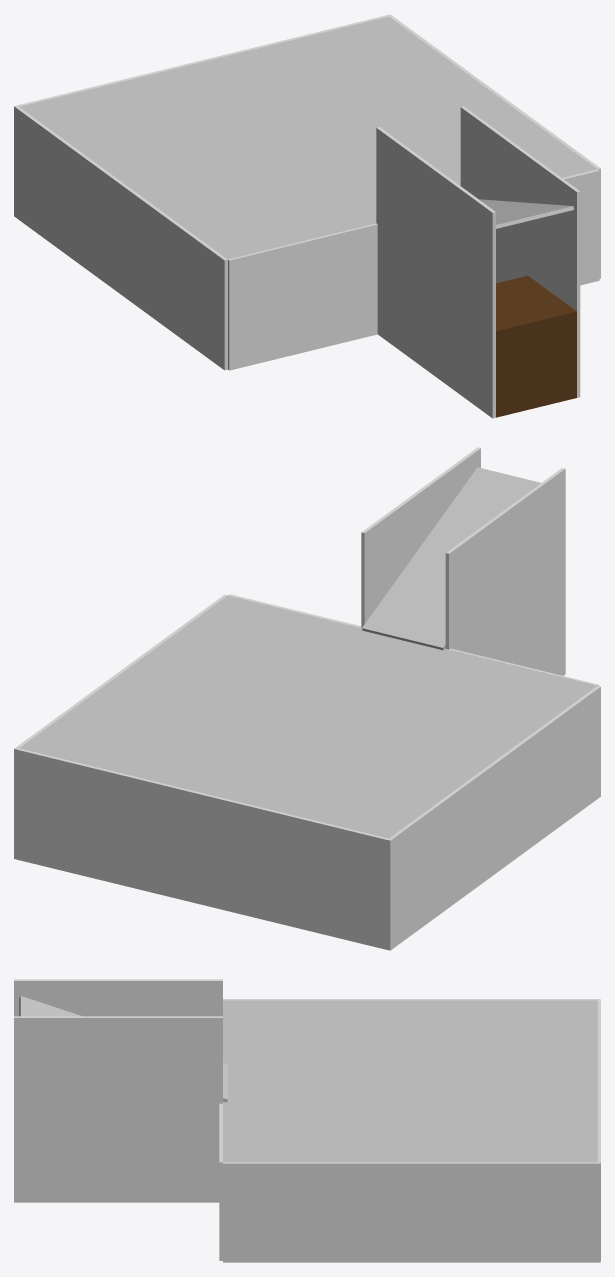
The model's file is Winary2.fbx.
3 views of the same model, one above another, from view 1: azimuth 30°, elevation 25°; view 2: azimuth 150°, elevation 25°; view 3: azimuth 270°, elevation 25° (orthographic). The views are drawn at different scales.
Parts seen in each view (by area): view 1: Roof.001, Wall.001, Wall.003, Wall, Walls, Stairs, Roof, Wall.004, Wall.005; view 2: Roof.001, Wall.005, Wall.003, Wall.001, Roof, Walls, Wall.004, Wall; view 3: Roof.001, Walls, Wall.004, Wall.001, Roof, Wall.003, Wall.005, Wall.
Boxes of the visible parts, left/top/right/bottom form: Roof.001: left=19, top=16, right=596, bottom=259; Wall.001: left=376, top=127, right=495, bottom=418; Wall.003: left=14, top=105, right=227, bottom=370; Wall: left=228, top=169, right=599, bottom=370; Walls: left=460, top=106, right=580, bottom=397; Stairs: left=496, top=275, right=576, bottom=417; Roof: left=479, top=199, right=573, bottom=228; Wall.004: left=387, top=14, right=600, bottom=278; Wall.005: left=17, top=15, right=388, bottom=106; Roof.001: left=19, top=595, right=597, bottom=838; Wall.005: left=17, top=748, right=388, bottom=949; Wall.003: left=387, top=686, right=600, bottom=950; Wall.001: left=445, top=468, right=565, bottom=675; Roof: left=362, top=467, right=540, bottom=650; Walls: left=361, top=447, right=480, bottom=628; Wall.004: left=14, top=594, right=227, bottom=859; Wall: left=228, top=594, right=598, bottom=685; Roof.001: left=223, top=1000, right=597, bottom=1162; Walls: left=14, top=1016, right=222, bottom=1202; Wall.004: left=223, top=1162, right=600, bottom=1262; Wall.001: left=14, top=979, right=222, bottom=1016; Roof: left=19, top=996, right=227, bottom=1102; Wall.003: left=223, top=999, right=600, bottom=1000; Wall.005: left=597, top=1000, right=600, bottom=1260; Wall: left=219, top=1103, right=222, bottom=1260.
Size of the model in its own units: 25.65 by 38.59 by 13.39.
